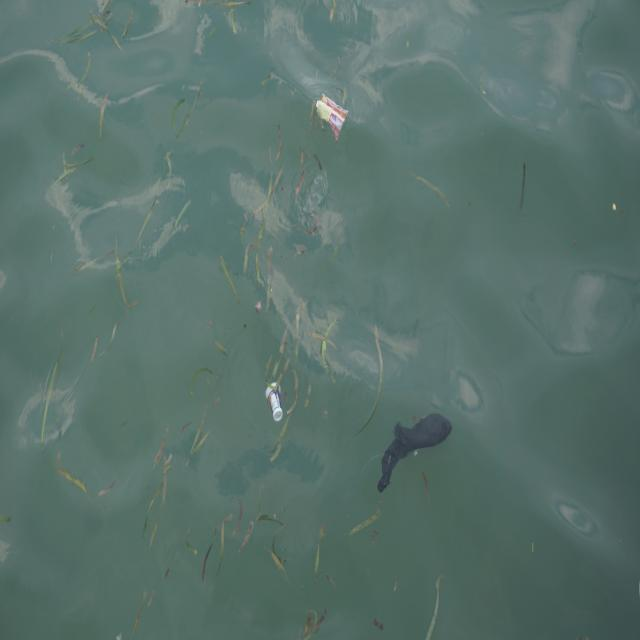Bungkus Makanan: (314, 92, 351, 145)
Bungkus Minuman: (264, 380, 287, 427)
Kantong Plastik: (376, 410, 454, 496)
